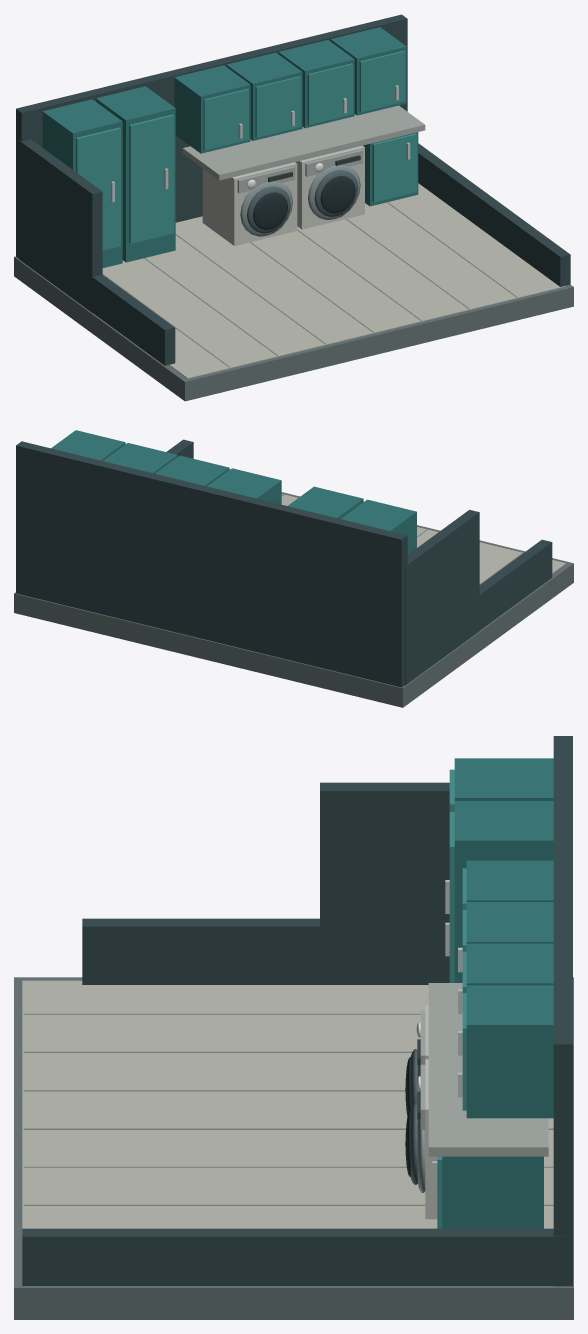
The model's file is laundry.glb.
3 views of the same model, one above another, from view 1: azimuth 30°, elevation 25°; view 2: azimuth 150°, elevation 25°; view 3: azimuth 270°, elevation 25° (orthographic). The views are drawn at different scales.
Bounding box in the file's own units: 6.5 × 2.67 × 4.95.
